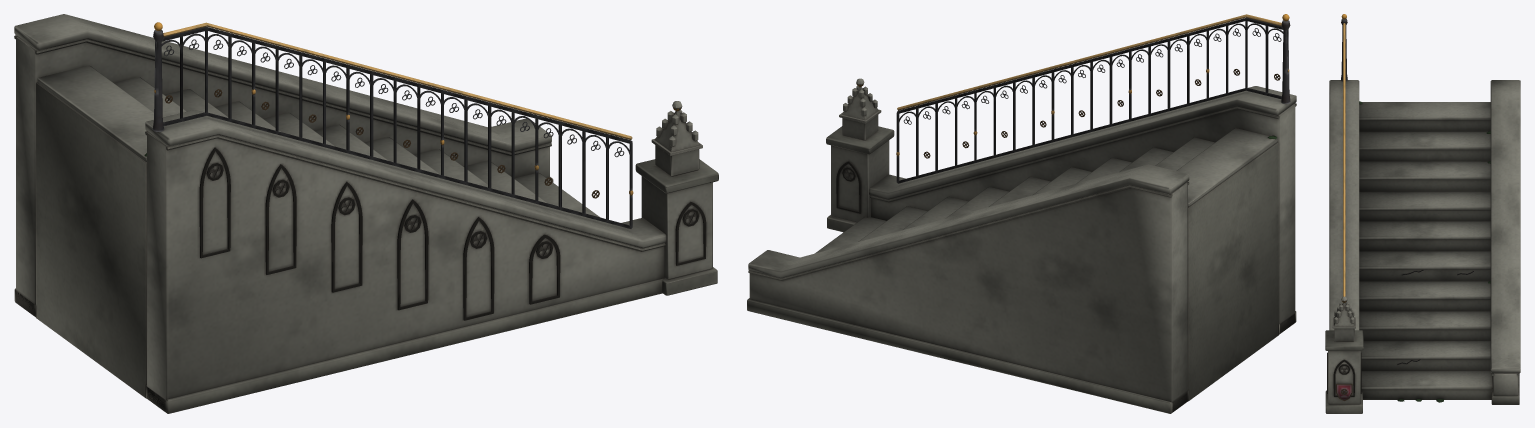
File: EntranceSideFlightR.fbx
3 renders of one model, left to right at view 1: azimuth 30°, elevation 25°; view 2: azimuth 150°, elevation 25°; view 3: azimuth 270°, elevation 25°, orthographic. The views are drawn at different scales.
Visible parts, largest first — view 1: EntranceSideFlightR_Main, EntranceSideFlightR_Rail; view 2: EntranceSideFlightR_Main, EntranceSideFlightR_Rail; view 3: EntranceSideFlightR_Main, EntranceSideFlightR_Rail.
Boxes of the visible parts, left/top/right/bottom form: EntranceSideFlightR_Main: left=14, top=14, right=718, bottom=413; EntranceSideFlightR_Rail: left=152, top=22, right=633, bottom=228; EntranceSideFlightR_Main: left=747, top=78, right=1296, bottom=413; EntranceSideFlightR_Rail: left=896, top=14, right=1290, bottom=183; EntranceSideFlightR_Main: left=1325, top=80, right=1520, bottom=413; EntranceSideFlightR_Rail: left=1341, top=14, right=1347, bottom=296.
Size of the model in its own units: 1433 by 956 by 715.
